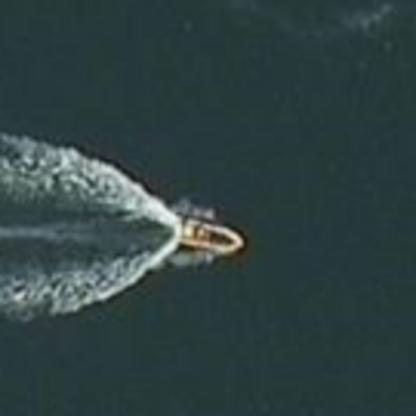ship: (173, 210, 247, 262)
